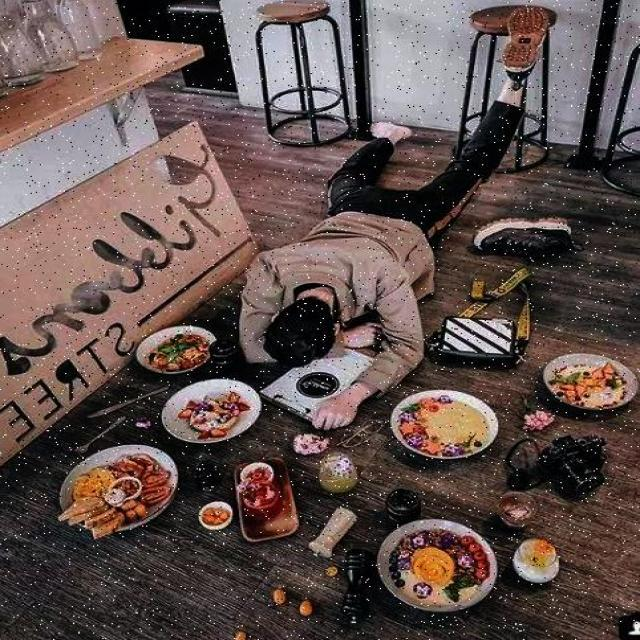fall: (247, 51, 524, 363)
